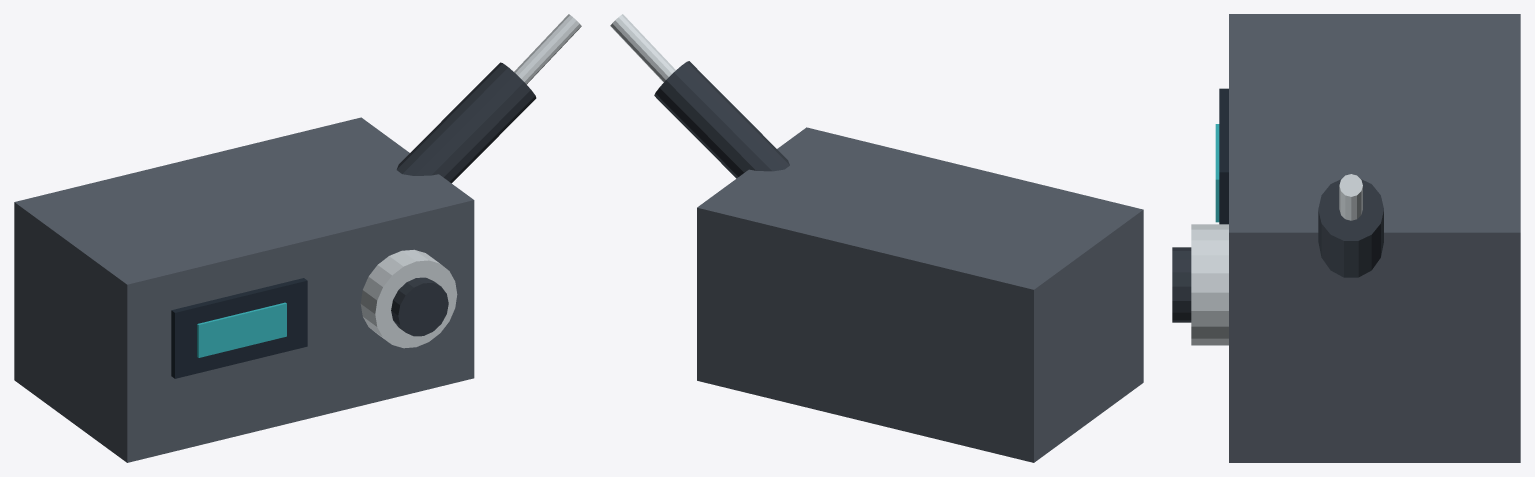
Rendered from product-21.glb.
3 views of the same model, side by side, from view 1: azimuth 30°, elevation 25°; view 2: azimuth 150°, elevation 25°; view 3: azimuth 270°, elevation 25° (orthographic). The views are drawn at different scales.
Parts seen in each view (by area): view 1: product-21; view 2: product-21; view 3: product-21.
Boxes of the visible parts, x1,y1,x2,y2 form: product-21: [14, 14, 581, 462]; product-21: [610, 14, 1143, 462]; product-21: [1172, 14, 1520, 462].
Size of the model in its own units: 1.59 by 0.8897 by 0.74.
